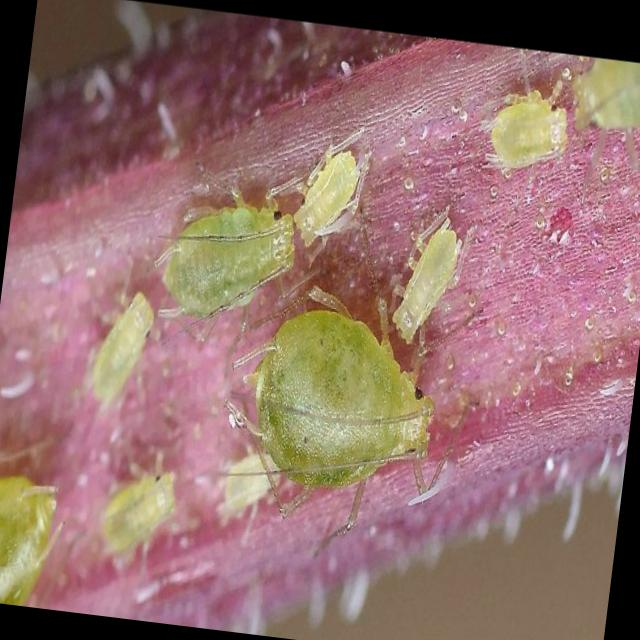Aphid: (212, 257, 496, 535), (153, 170, 304, 340), (366, 201, 483, 382), (278, 114, 382, 284), (470, 53, 586, 197), (83, 456, 189, 572)
